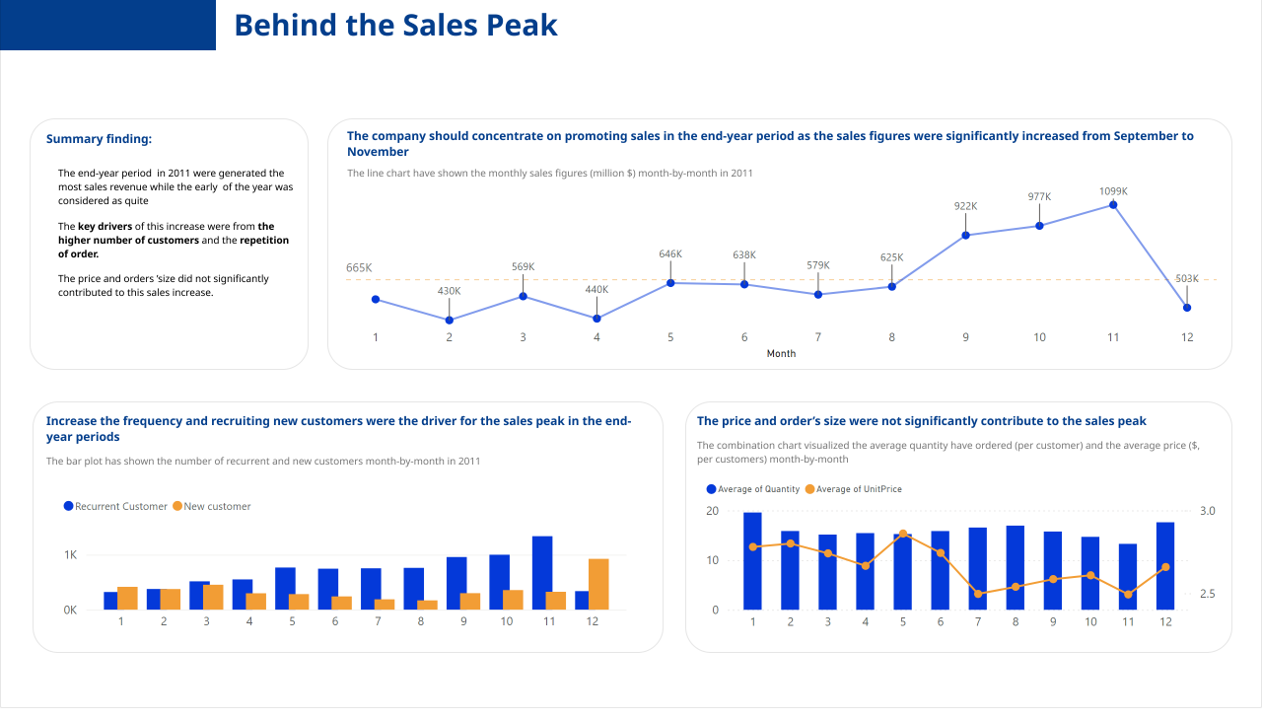

What the dashboard file says about the page in this screenshot:
{"tool":"powerbi","page":{"name":"StoryTelling_page1","canvas":[1280,720],"ordinal":0},"visuals":[{"type":"lineChart","fields":{"Category":["Date.Year","Date.Month"],"Y":["Online Retail.Total Revenue"]},"box":[346,176,893,193],"z":0},{"type":"clusteredColumnChart","fields":{"Category":["Date.Month"],"Y":["Online Retail.Recurrent Customer","Online Retail.Number of New customer"]},"box":[58.6,494.3,581.4,154.3],"z":1000},{"type":"lineClusteredColumnComboChart","fields":{"Y":["Avg(Online Retail.Quantity)"],"Y2":["Avg(Online Retail.UnitPrice)"],"Category":["Date.Month"]},"box":[711.4,477.1,527.1,171.4],"z":3001}]}

Visuals, with their boxes in screenshot pixels (x1, y1, x2, y2), scaled from the page's 1280x720 canvas onto the 1262x720 screenshot:
lineChart - Date.Year x Date.Month: <box>341,176,1222,369</box>
clusteredColumnChart - Date.Month x Online Retail.Recurrent Customer: <box>58,494,631,649</box>
lineClusteredColumnComboChart - Avg(Online Retail.Quantity) x Avg(Online Retail.UnitPrice): <box>701,477,1221,648</box>
